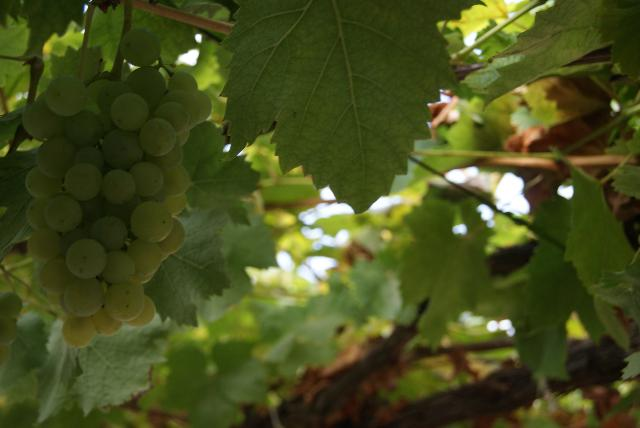grapes: (22, 29, 211, 349)
